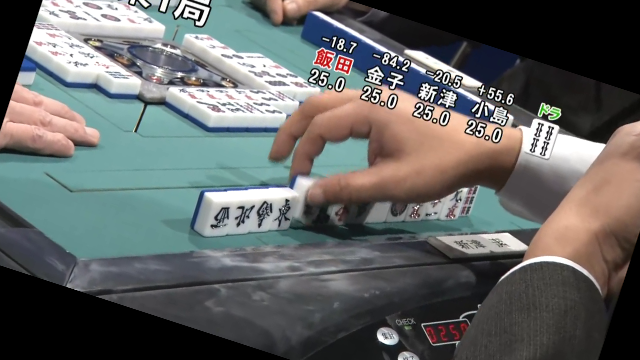Tehai: (194, 169, 483, 233)
